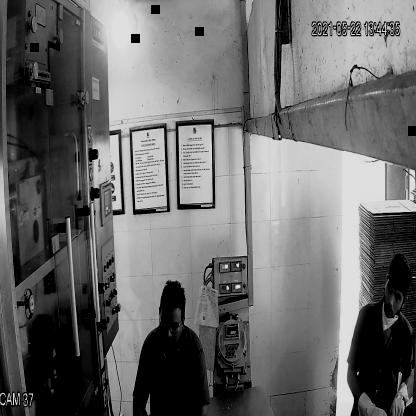goggles: (157, 312, 186, 338)
no_goggles: (385, 283, 404, 307)
